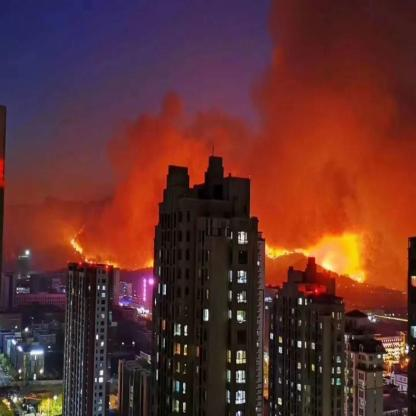fire: (255, 226, 372, 286), (64, 223, 156, 274)
other: (368, 326, 410, 376), (132, 271, 156, 301)
smoke: (65, 16, 409, 223)
